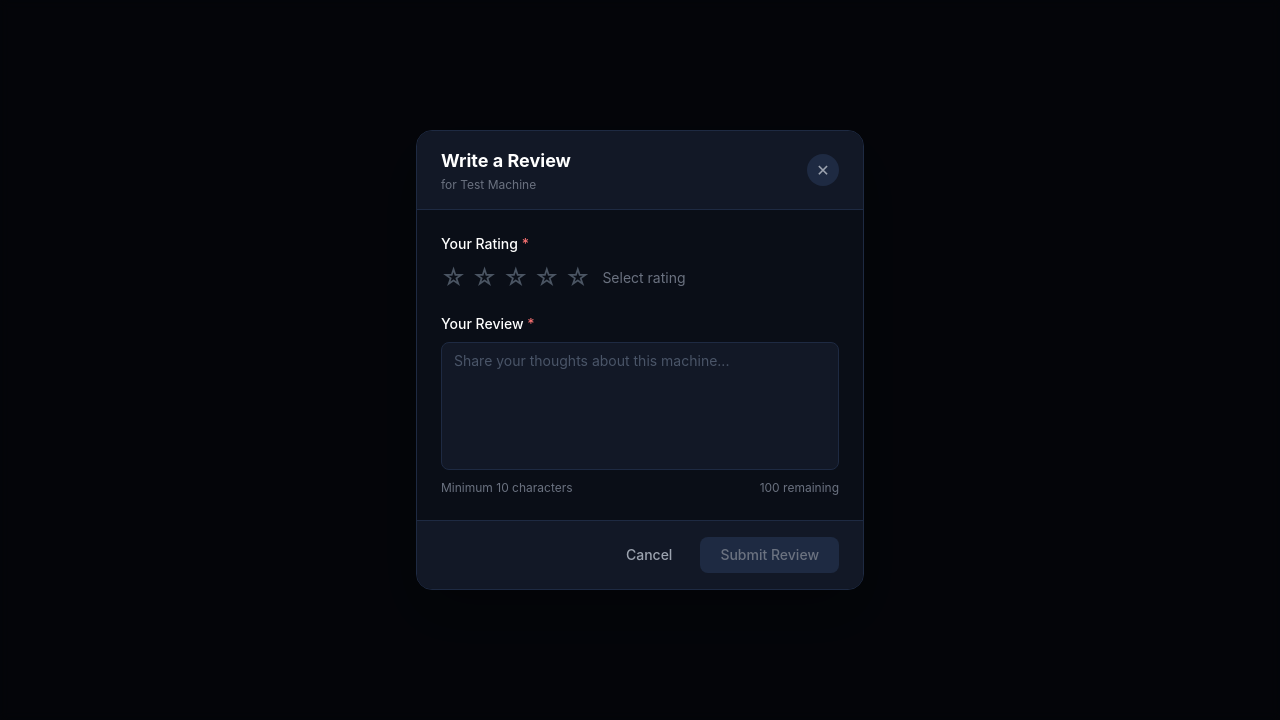
Test case: SubmitReviewModal › shows character count
This screenshot has width=1280, height=720.
Expected: the text "100 remaining" is shown, [760, 480, 839, 496]
// After typing 7 characters ("Testing"), should show 93 remaining
Type "Testing" into the text box labelled "Your Review *" at (640, 406), box [441, 342, 839, 470]
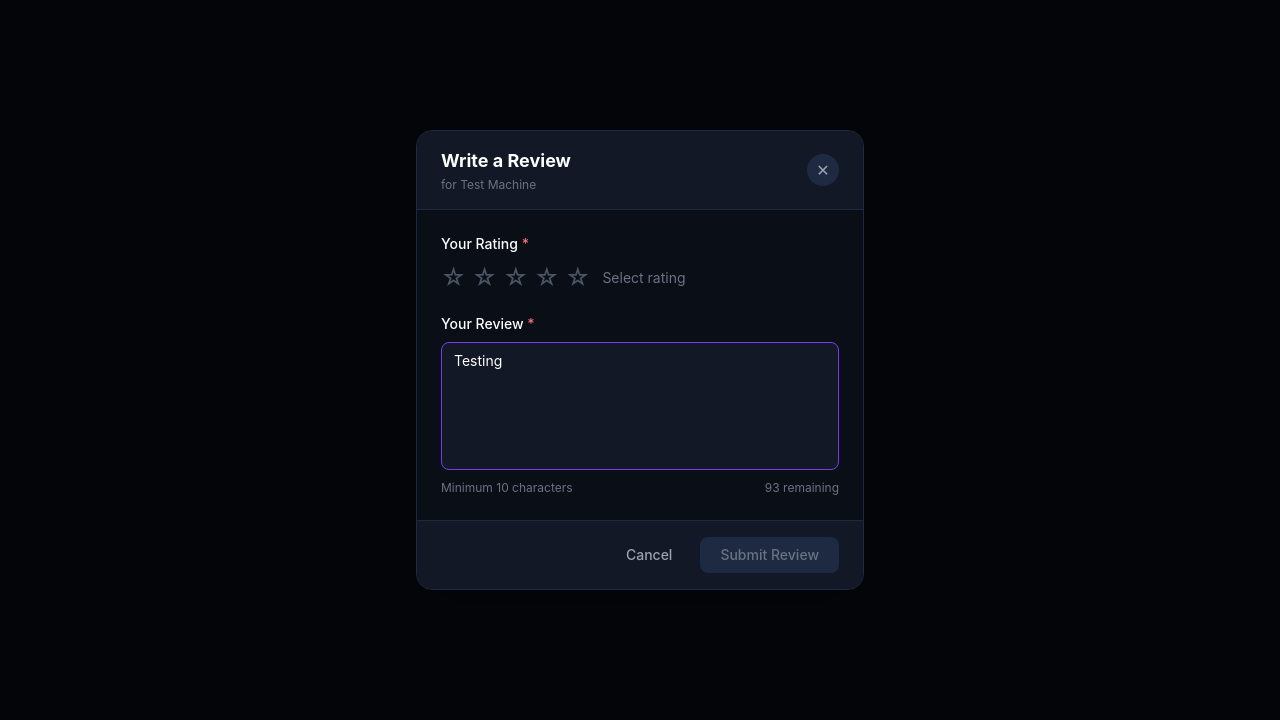
Expected: the text "93 remaining" is shown, [765, 480, 839, 496]
